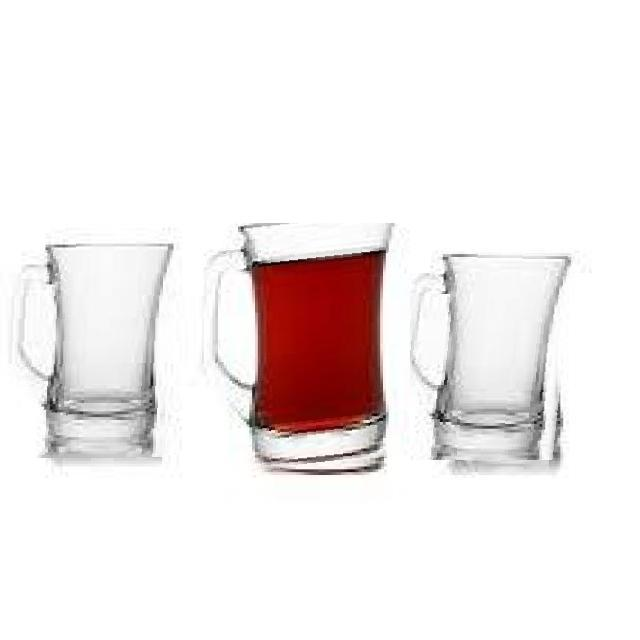Glass: (203, 223, 400, 477), (8, 241, 176, 458), (410, 248, 574, 460)
